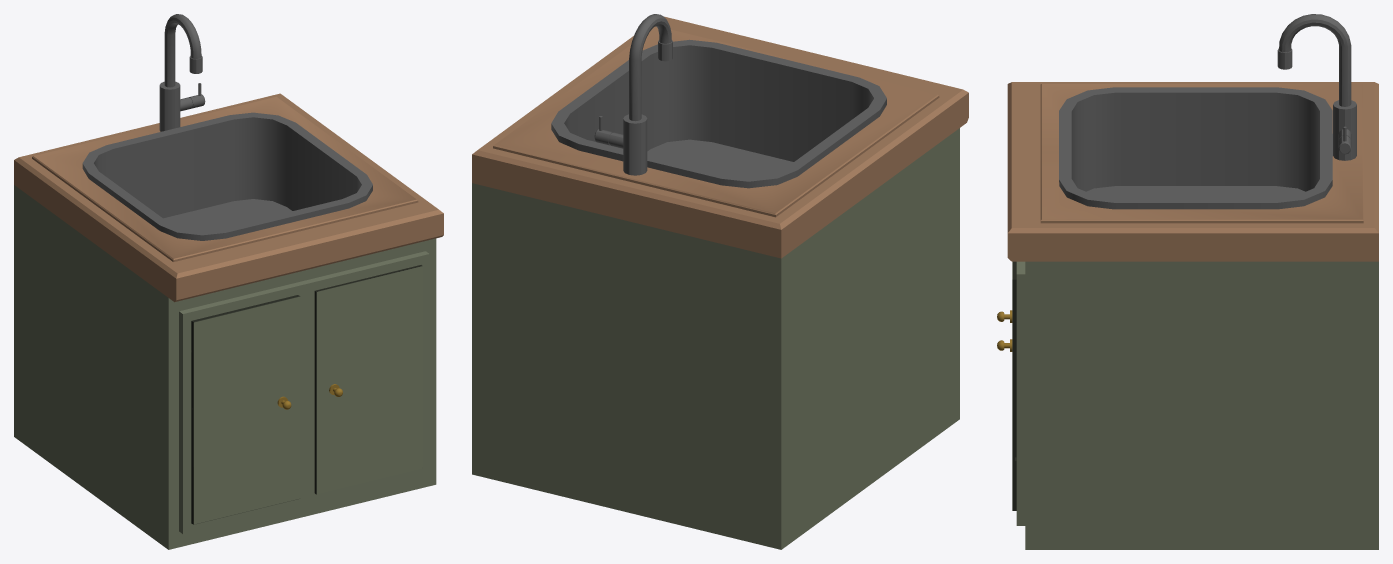
File: Sink.obj
3 renders of one model, left to right at view 1: azimuth 30°, elevation 25°; view 2: azimuth 150°, elevation 25°; view 3: azimuth 270°, elevation 25°, orthographic. The views are drawn at different scales.
Visible parts, largest first — view 1: CounterWithSink_Cooker/Counter, CounterWithSink_Sink; view 2: CounterWithSink_Cooker/Counter, CounterWithSink_Sink; view 3: CounterWithSink_Cooker/Counter, CounterWithSink_Sink.
Part boxes in pixels (<box>): CounterWithSink_Cooker/Counter: <box>14,93,443,549</box>; CounterWithSink_Sink: <box>82,14,372,240</box>; CounterWithSink_Cooker/Counter: <box>472,16,968,549</box>; CounterWithSink_Sink: <box>551,14,886,188</box>; CounterWithSink_Cooker/Counter: <box>997,82,1378,549</box>; CounterWithSink_Sink: <box>1059,14,1356,209</box>.
Size of the model in its own units: 1 by 1.45 by 1.08.
Materials: 2 (1 with a texture image).
